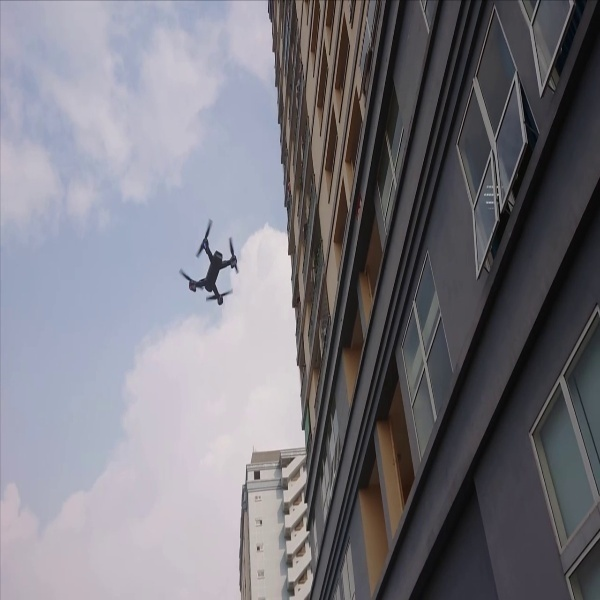drone: (175, 215, 246, 307)
